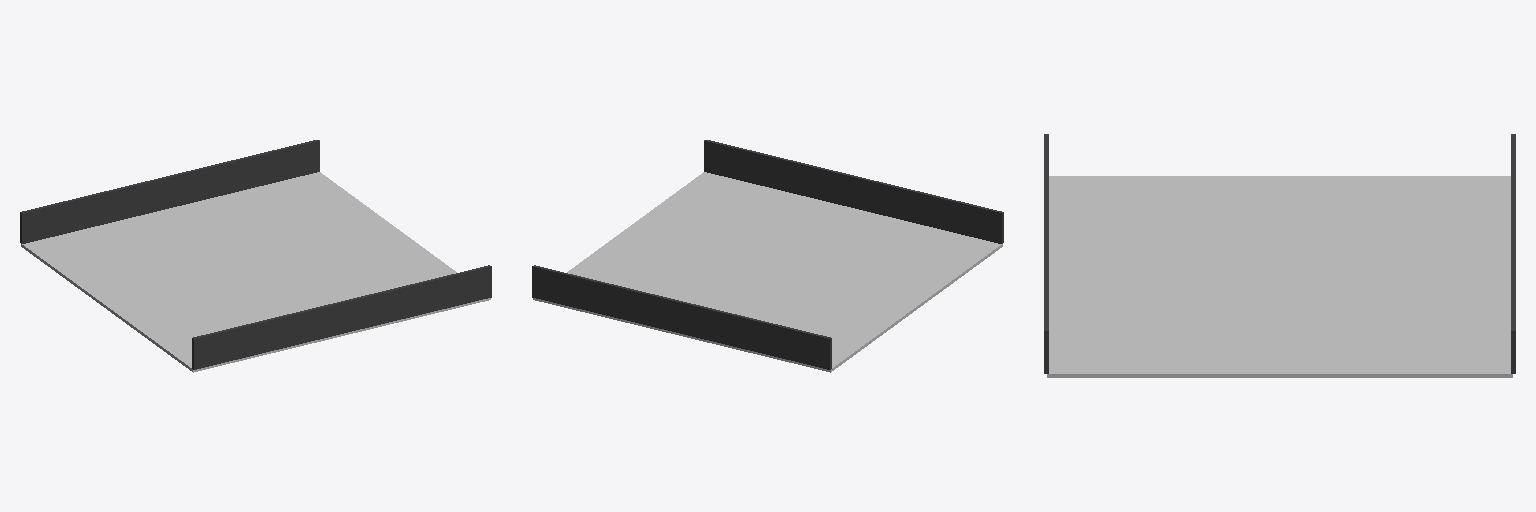
URDF robot description (sloped_terrain):
<?xml version="1.0"?>
<robot name="sloped_terrain">

  <!-- Base: Slope -->
  <link name="slope">
    <inertial>
      <mass value="2.0"/>
      <origin xyz="0 0 0" rpy="0 0 0"/>
      <inertia ixx="0.01" ixy="0" ixz="0" iyy="0.01" iyz="0" izz="0.01"/>
    </inertial>
    <visual>
      <origin xyz="0 0 0" rpy="0 0 0"/>
      <geometry>
        <box size="1 1.0 0.01"/>
      </geometry>
      <material name="brown">
        <color rgba="0.8 0.8 0.8 1"/>
      </material>
    </visual>
    <collision>
      <origin xyz="0 0 0" rpy="0 0 0"/>
      <geometry>
        <box size="1 1.0 0.01"/>
      </geometry>
    </collision>
  </link>

  <!-- Left wall -->
  <link name="left_wall">
    <inertial>
      <mass value="0.5"/>
      <origin xyz="0 0 0" rpy="0 0 0"/>
      <inertia ixx="0.002" ixy="0" ixz="0" iyy="0.002" iyz="0" izz="0.002"/>
    </inertial>
    <visual>
      <origin xyz="0 -0.5 0.055" rpy="0 0 0"/>
      <geometry>
        <box size="1 0.01 0.1"/>
      </geometry>
      <material name="gray">
        <color rgba="0.3 0.3 0.3 1"/>
      </material>
    </visual>
    <collision>
      <origin xyz="0 -0.5 0.055" rpy="0 0 0"/>
      <geometry>
        <box size="1 0.01 0.1"/>
      </geometry>
    </collision>
  </link>

  <!-- Right wall -->
  <link name="right_wall">
    <inertial>
      <mass value="0.5"/>
      <origin xyz="0 0 0" rpy="0 0 0"/>
      <inertia ixx="0.002" ixy="0" ixz="0" iyy="0.002" iyz="0" izz="0.002"/>
    </inertial>
    <visual>
      <origin xyz="0 0.5 0.055" rpy="0 0 0"/>
      <geometry>
        <box size="1 0.01 0.1"/>
      </geometry>
      <material name="gray"/>
    </visual>
    <collision>
      <origin xyz="0 0.5 0.055" rpy="0 0 0"/>
      <geometry>
        <box size="1 0.01 0.1"/>
      </geometry>
    </collision>
  </link>

  <!-- Joints -->
  <joint name="left_wall_joint" type="fixed">
    <parent link="slope"/>
    <child link="left_wall"/>
    <origin xyz="0 0 0" rpy="0 0 0"/>
  </joint>

  <joint name="right_wall_joint" type="fixed">
    <parent link="slope"/>
    <child link="right_wall"/>
    <origin xyz="0 0 0" rpy="0 0 0"/>
  </joint>

</robot>

--- Render facts (derived) ---
Views: 3 orthographic renders of the robot side by side, from view 1: azimuth 30°, elevation 25°; view 2: azimuth 150°, elevation 25°; view 3: azimuth 270°, elevation 25°.
Robot: sloped_terrain — 3 links, 2 joints (2 fixed); root link slope; default pose: all joints at 0.
Links seen in each view (by area): view 1: slope, left_wall, right_wall; view 2: slope, right_wall, left_wall; view 3: slope, left_wall, right_wall.
Boxes of the visible links, x1,y1,x2,y2 form: slope: (21, 172, 490, 372); left_wall: (192, 265, 491, 369); right_wall: (20, 140, 319, 243); slope: (533, 172, 1002, 372); right_wall: (532, 265, 831, 369); left_wall: (704, 140, 1003, 243); slope: (1047, 176, 1512, 377); left_wall: (1044, 134, 1048, 373); right_wall: (1511, 134, 1515, 373).
Size in the robot's own frame: 1 by 1.01 by 0.11 metres.
Geometry: primitives only (box / cylinder / sphere), no mesh files.
